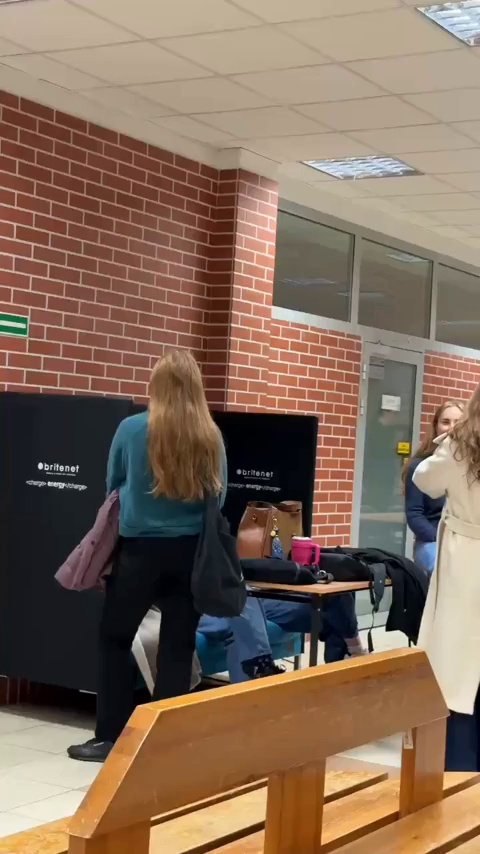no vest: (83, 346, 255, 711), (411, 382, 480, 709)
